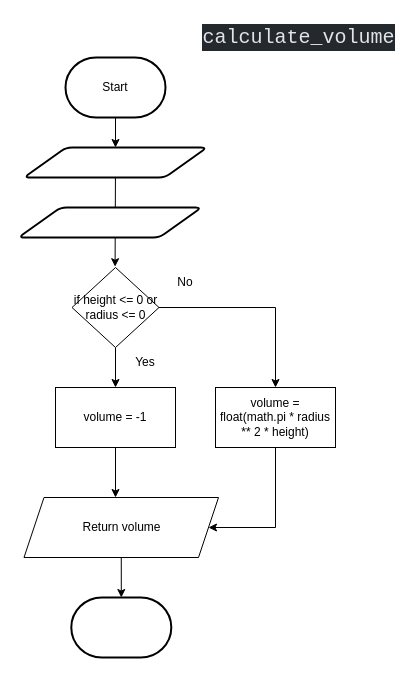
This 411x675 diagram has some shape labels left out. Here are the shapes that lost their labels. From the top down, the centre of each, then its label:
point 115,162: get height
point 109,222: get radius
point 121,627: Stop
